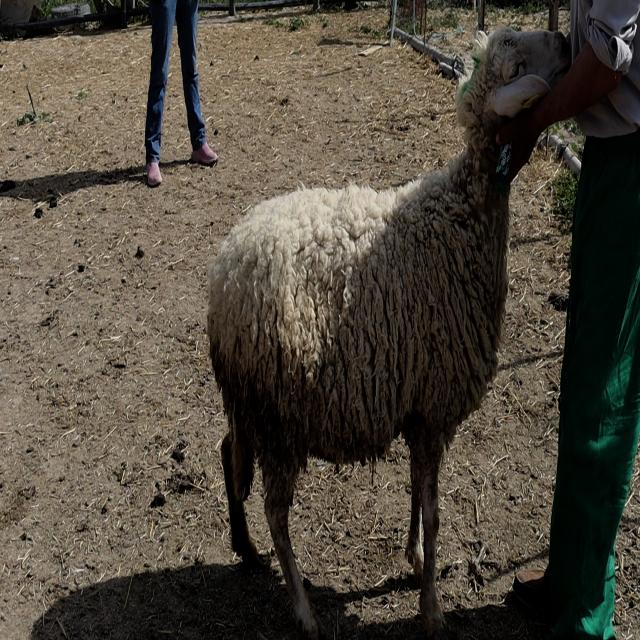Score_4: (207, 27, 570, 639)
